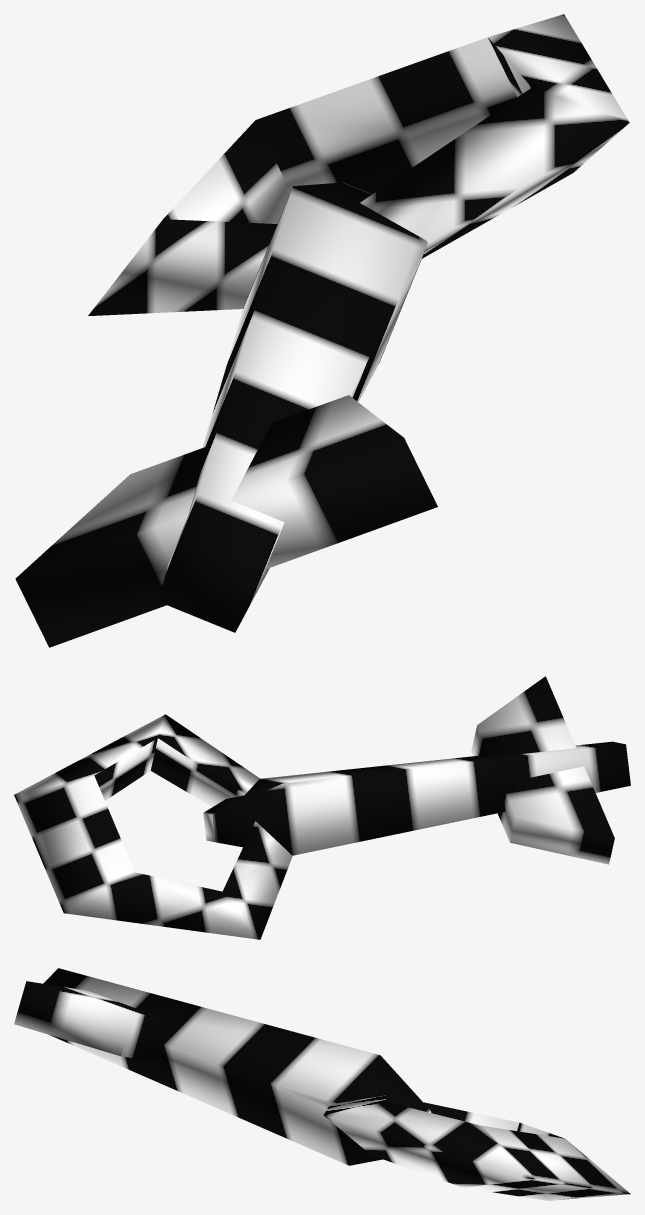
File: initqu23.dae
The picture shows the model from 3 angles, top to bottom: view 1: azimuth 30°, elevation 25°; view 2: azimuth 150°, elevation 25°; view 3: azimuth 270°, elevation 25°; orthographic projection. The views are drawn at different scales.
Visible parts, largest first — view 1: item; view 2: item; view 3: item.
Part boxes in pixels (x1,y1,x2,y2): item: [15, 14, 629, 647]; item: [14, 676, 630, 939]; item: [14, 968, 630, 1200].
Size of the model in its own units: 1.36 by 1.49 by 0.3575.
1 material, 1 textured.
